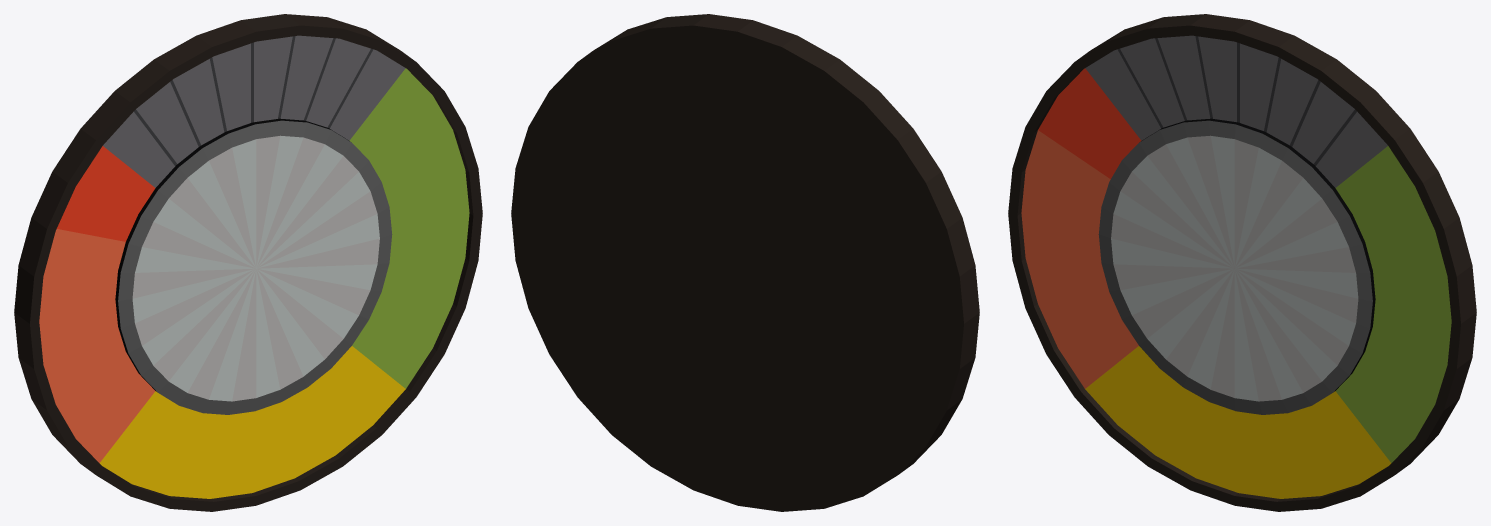
The model's file is CountdownTimerBase.glb.
3 renders of one model, left to right at view 1: azimuth 30°, elevation 25°; view 2: azimuth 150°, elevation 25°; view 3: azimuth 330°, elevation 25°, orthographic.
Parts seen in each view (by area): view 1: Disc; view 2: Disc; view 3: Disc.
Boxes of the visible parts, left/top/right/bottom form: Disc: left=14, top=14, right=482, bottom=511; Disc: left=511, top=14, right=979, bottom=511; Disc: left=1008, top=14, right=1476, bottom=511.
Size of what is drawn, in the model's own units: 2 by 2 by 0.1202.
1 material, 1 textured.
